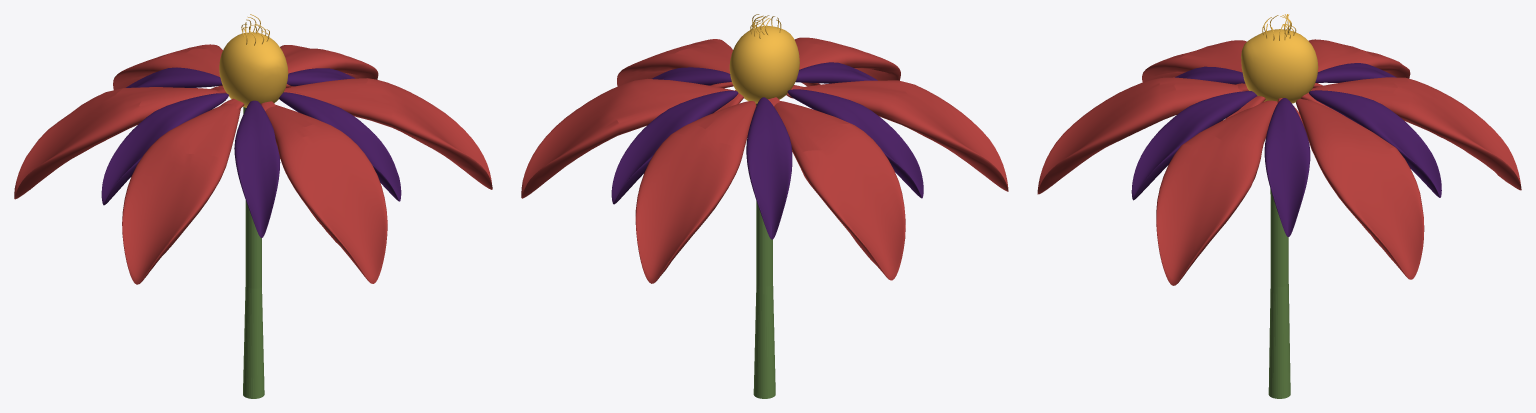
Rendered from flower4.fbx.
3 renders of one model, left to right at view 1: azimuth 30°, elevation 25°; view 2: azimuth 150°, elevation 25°; view 3: azimuth 270°, elevation 25°, orthographic.
Visible parts, largest first — view 1: Plant_Petals, Plant_bulb, Plant_green; view 2: Plant_Petals, Plant_bulb, Plant_green; view 3: Plant_Petals, Plant_bulb, Plant_green.
Boxes of the visible parts, <box> form: Plant_Petals: <box>14,44,492,284</box>; Plant_bulb: <box>219,32,288,107</box>; Plant_green: <box>243,107,264,398</box>; Plant_Petals: <box>521,37,1008,283</box>; Plant_bulb: <box>729,25,799,103</box>; Plant_green: <box>753,103,775,398</box>; Plant_Petals: <box>1037,39,1521,285</box>; Plant_bulb: <box>1241,29,1318,103</box>; Plant_green: <box>1268,189,1290,398</box>.
Size of the model in its own units: 948 by 913 by 1052.
